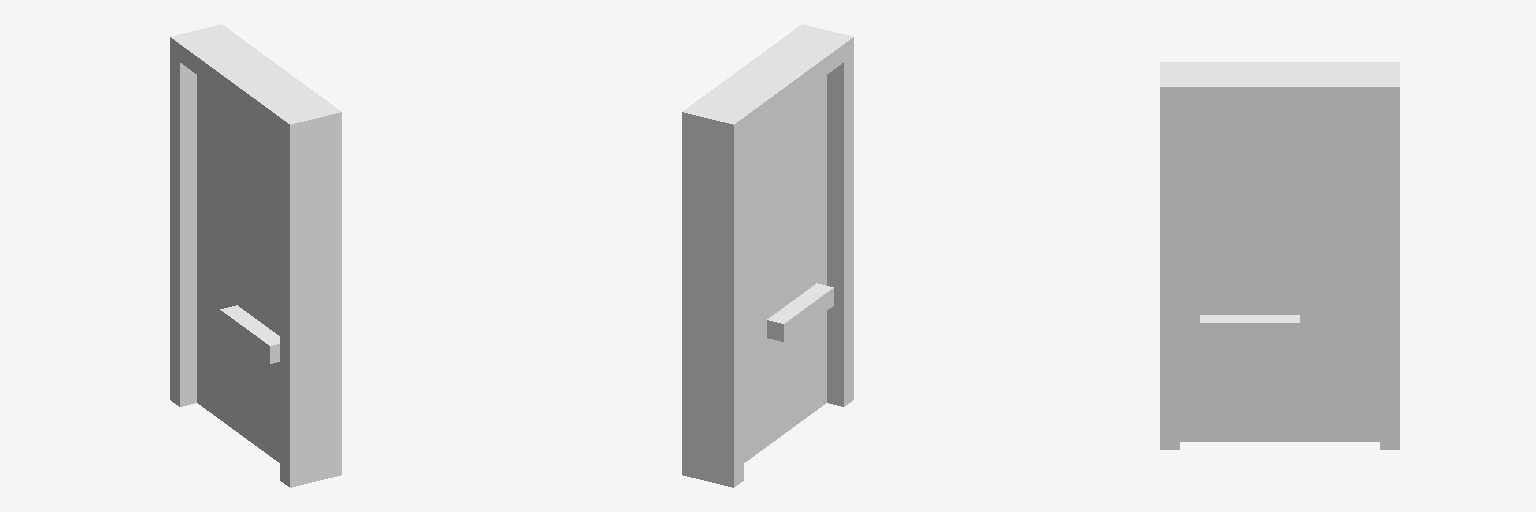
File: wall_base_door-door.obj
3 renders of one model, left to right at view 1: azimuth 30°, elevation 25°; view 2: azimuth 150°, elevation 25°; view 3: azimuth 270°, elevation 25°, orthographic.
Parts seen in each view (by area): view 1: object 1; view 2: object 1; view 3: object 1.
Part boxes in pixels (left/top/right/bottom): object 1: left=170, top=24, right=341, bottom=487; object 1: left=682, top=24, right=853, bottom=487; object 1: left=1160, top=62, right=1399, bottom=449.
Bounding box in the file's own units: 0.3 × 2 × 1.2.